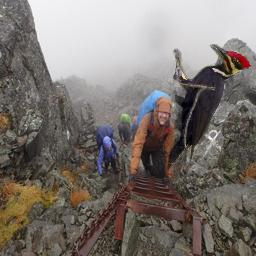Woodpecker: (165, 44, 252, 171)
